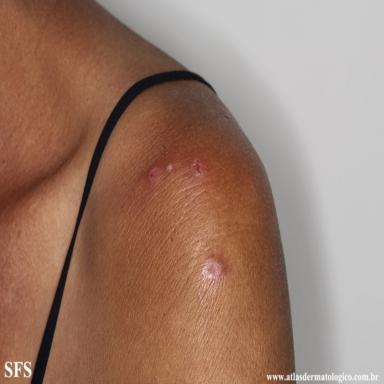Lupus-Erythematosus-Chronicus-Discoides: (201, 252, 227, 280), (191, 159, 204, 178), (149, 167, 161, 183), (166, 164, 173, 172)
